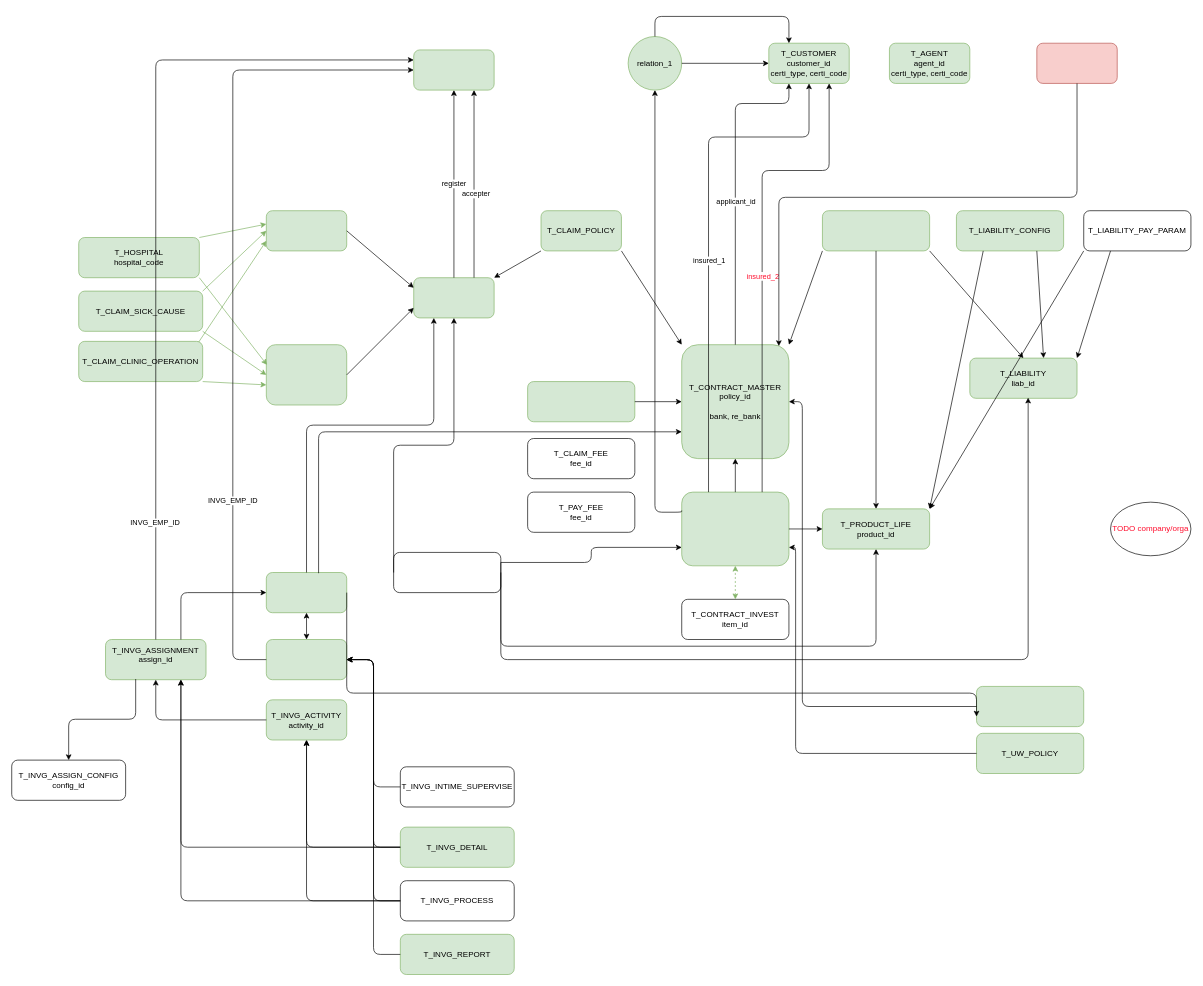
Some shapes in this 1203 by 986 pixel diagram are drawn without their labels. Here are the shapes that lost their labels. From the top down, the centre of each, then its label:
At (x=453, y=69): "T_EMPLOYEE employee_id certi_type, certi_code".
At (x=1076, y=63): "T_CONTRACT_BENE certi_type, certi_code".
At (x=306, y=230): "T_CLAIM_CLINIC clinic_id".
At (x=876, y=230): "T_LIABILITY_LIST".
At (x=453, y=297): "T_CLAIM_CASE case_id".
At (x=306, y=374): "T_CLAIM_INPATIENT hospitalization_id operation_type(科别) 住院人身份证号，年龄，性别".
At (x=581, y=401): "T_POLICY_FEE fee_id bank".
At (x=735, y=528): "T_CONTRACT_PRODUCT item_id bank".
At (x=306, y=592): "T_INVG_MAIN invg_id".
At (x=447, y=572): "T_LIABILITY_PAY".
At (x=306, y=659): "T_INVG_TASK task_id task_type？".
At (x=1030, y=706): "T_UW_PRODUCT".
